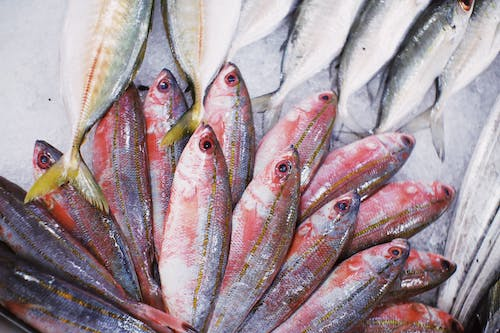blood: (0, 174, 201, 333), (32, 138, 144, 305), (235, 188, 362, 333), (206, 142, 302, 333), (91, 79, 167, 313), (157, 119, 233, 333), (267, 236, 411, 333), (0, 245, 156, 333), (295, 131, 417, 227), (334, 180, 457, 267), (140, 67, 190, 256), (251, 88, 339, 186), (202, 60, 256, 208), (365, 247, 458, 306), (343, 301, 466, 333)
